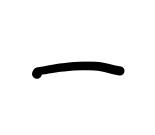minus: (32, 61, 126, 80)
